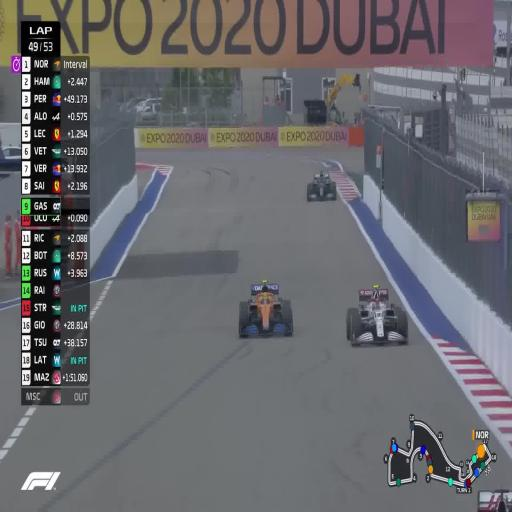f1_car: (346, 285, 408, 345), (239, 281, 293, 337), (307, 173, 337, 201), (477, 490, 512, 511)
